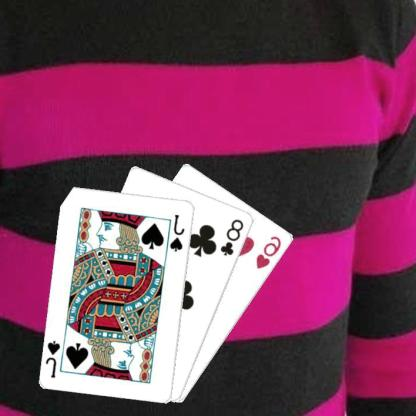6H: (255, 233, 285, 270)
8C: (220, 216, 247, 258)
JS: (169, 212, 188, 252), (46, 338, 64, 379)
